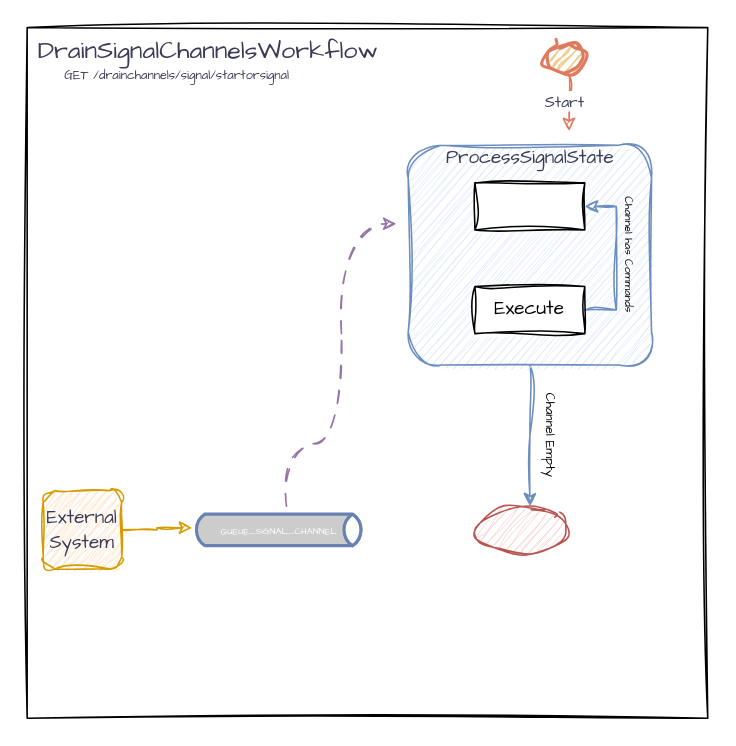
Image size: 736x746. Some labels were removed from this diagram. Here are the shapes that lost their labels. From the top down, the centre of each, then its label:
At pixel 529 205: "WaitUntil".
At pixel 521 529: "Complete".
